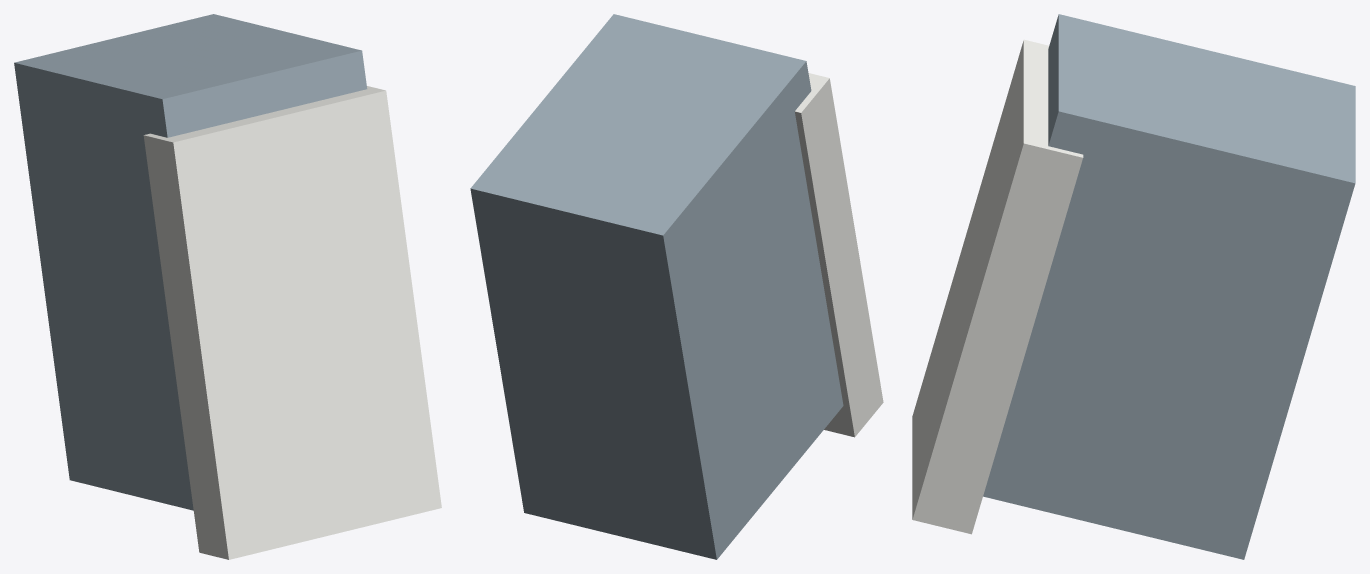
Rendered from AttGrip.fbx.
3 renders of one model, left to right at view 1: azimuth 30°, elevation 25°; view 2: azimuth 150°, elevation 25°; view 3: azimuth 270°, elevation 25°, orthographic. The views are drawn at different scales.
Visible parts, largest first — view 1: Body; view 2: Body; view 3: Body.
Part boxes in pixels (box(x1,y1,x2,y2)): Body: box(14, 14, 441, 559); Body: box(470, 14, 883, 559); Body: box(912, 14, 1355, 559).
Bounding box in the file's own units: 0.08 × 0.1611 × 0.1442.
